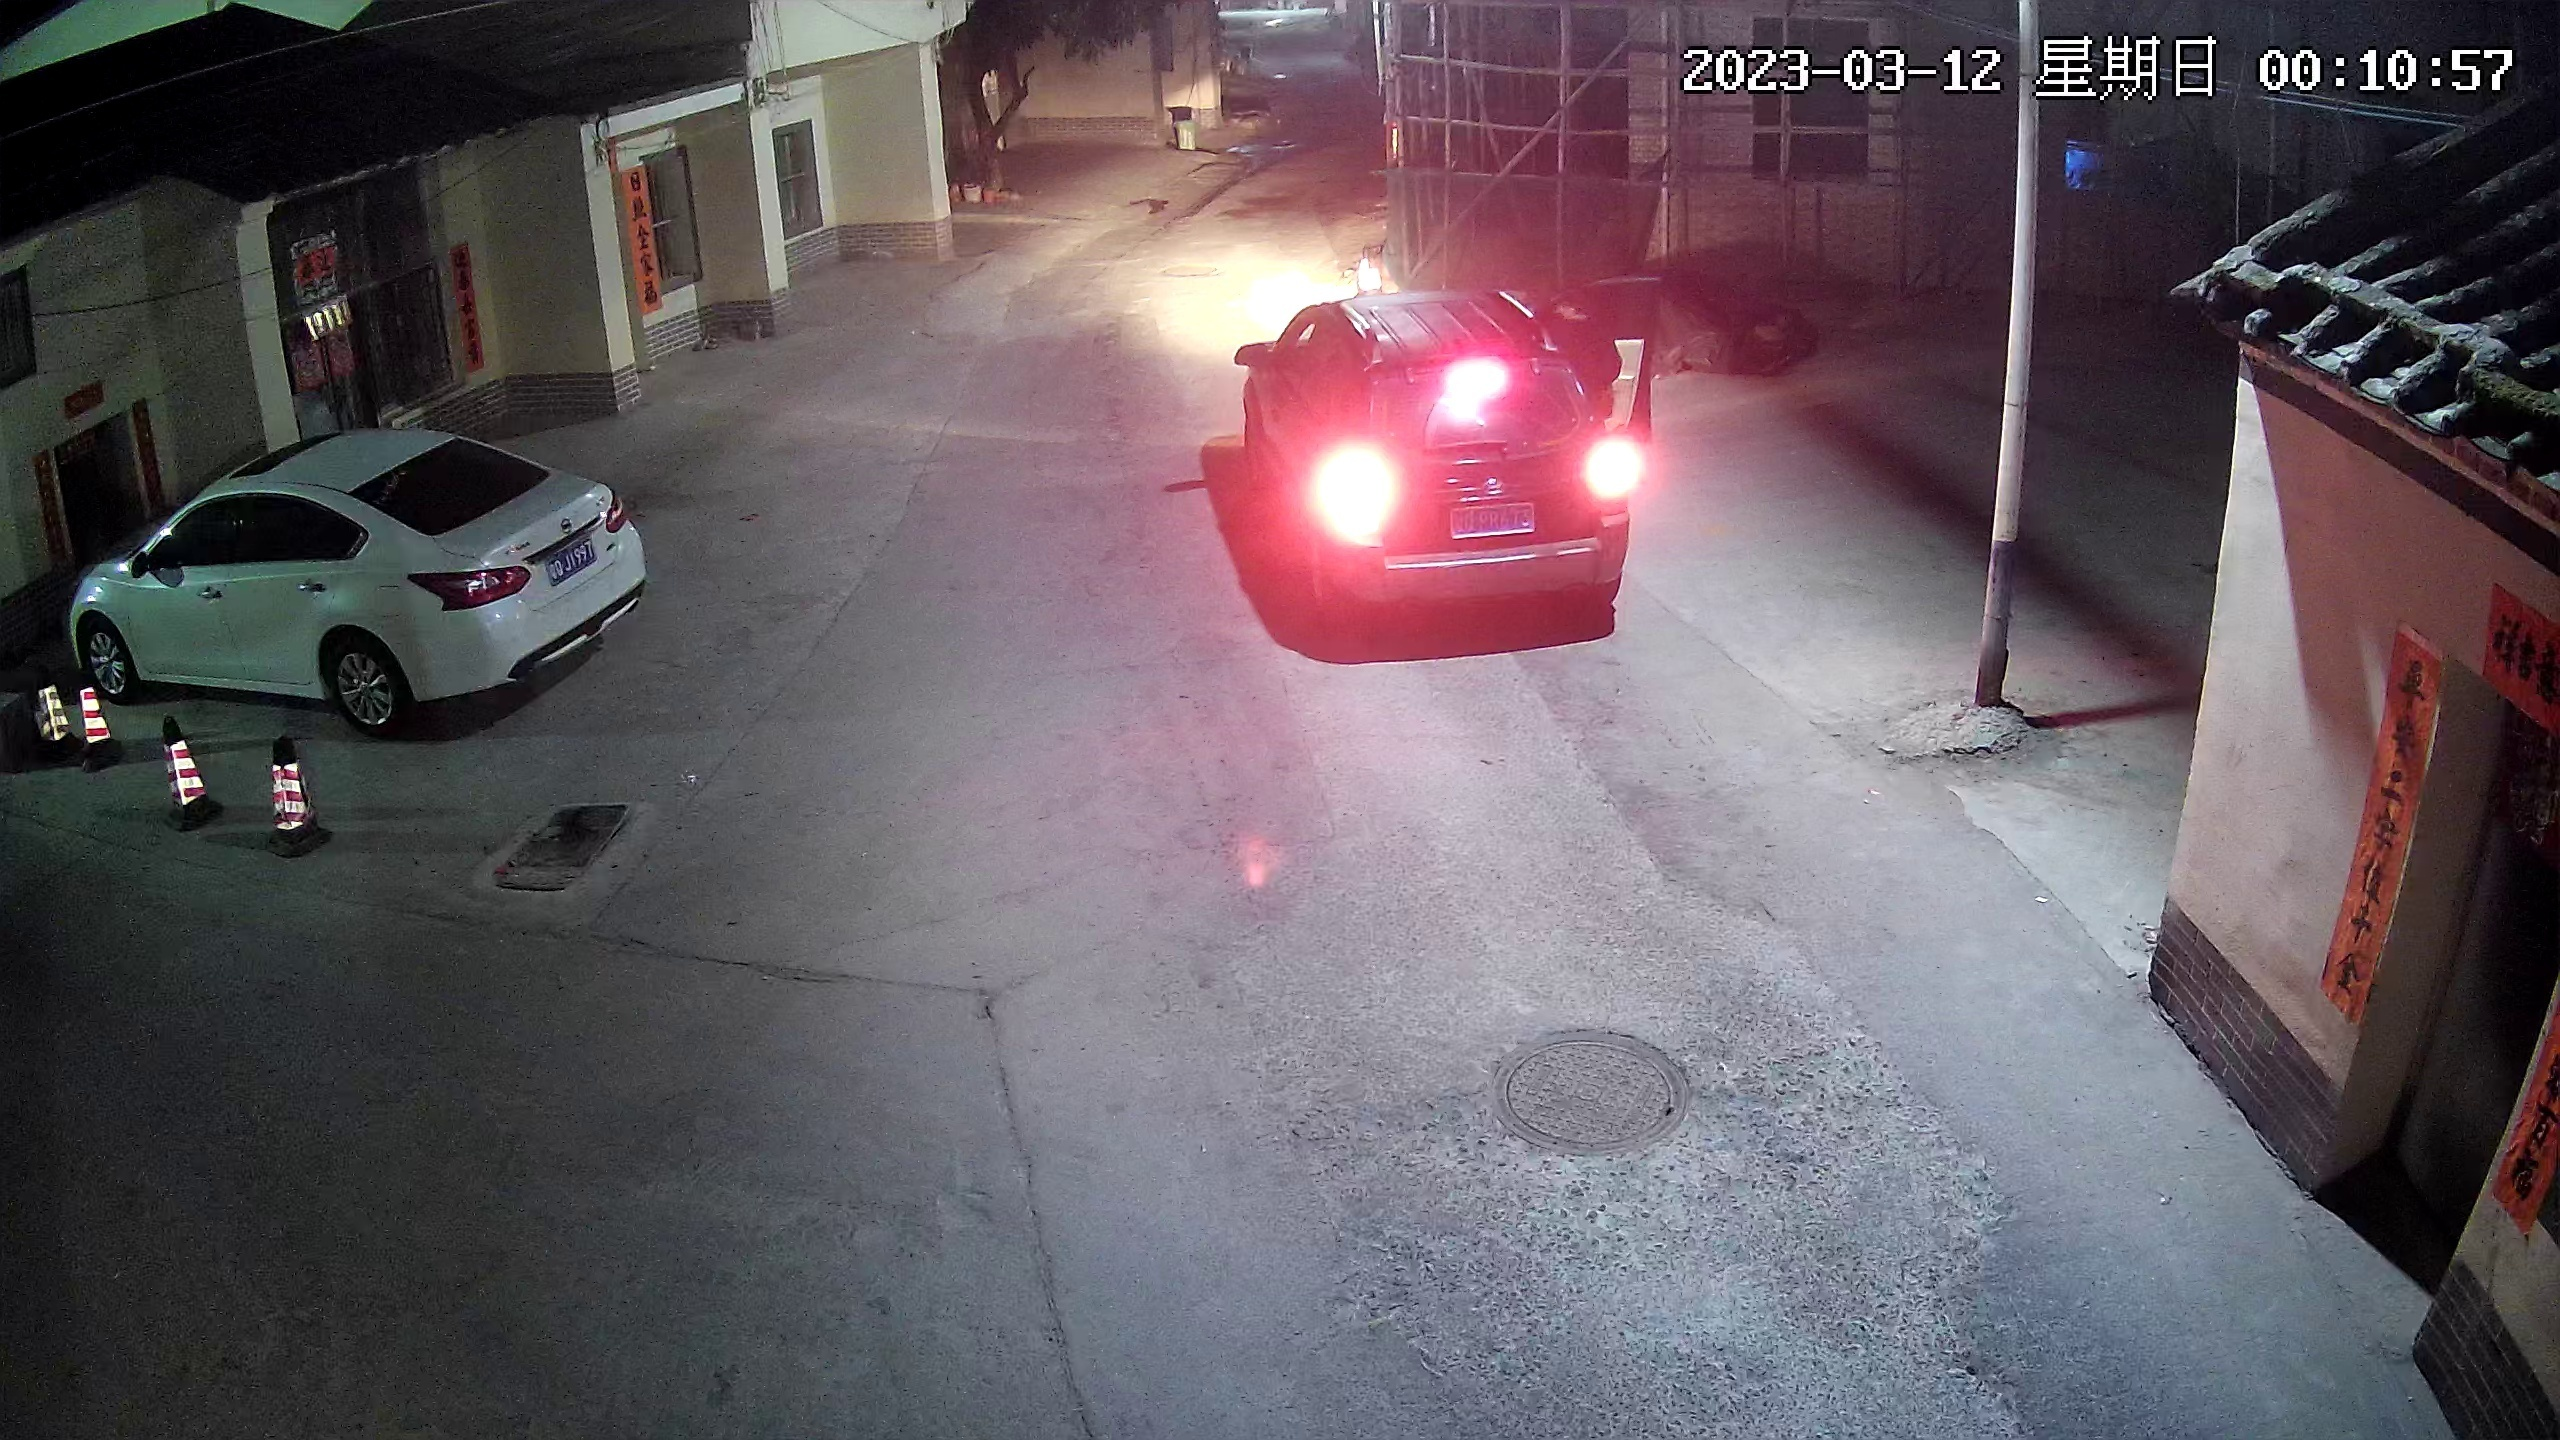sedan: (63, 433, 652, 721)
suv: (1234, 288, 1667, 628)
